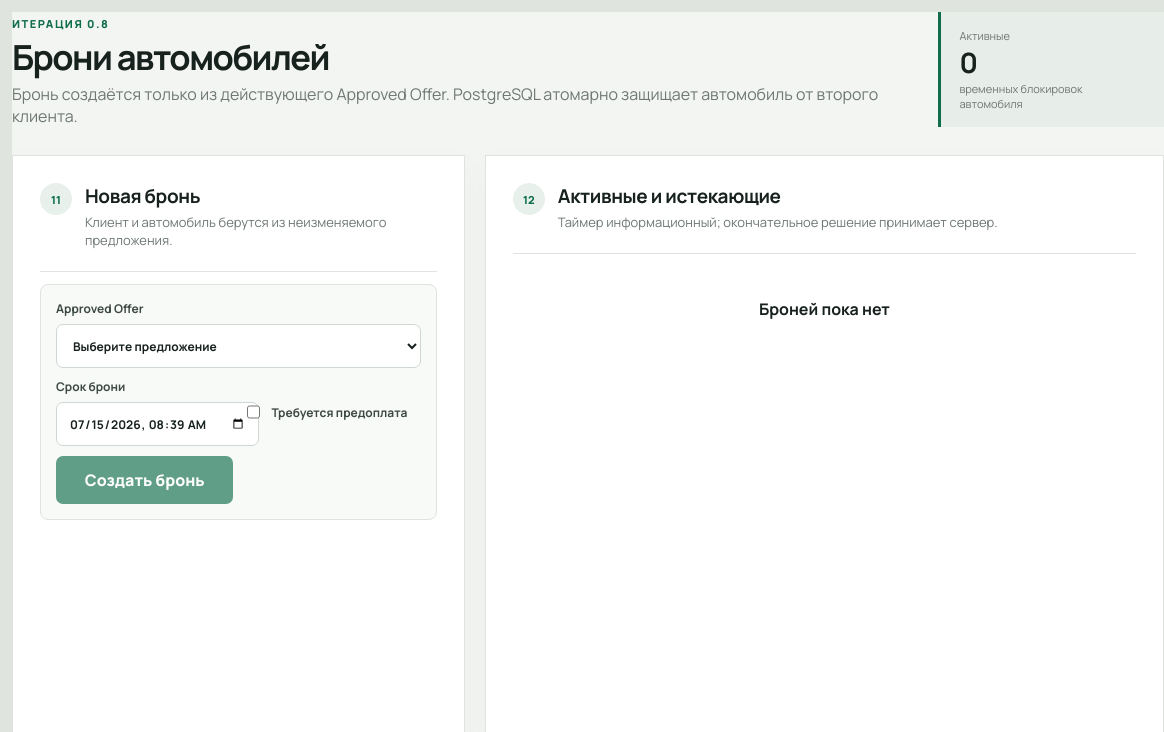
Test: ReservationsWorkspace › creates a reservation only from an approved offer and shows its countdown
Select "Ирина Клиент · Volkswagen Passat · 1 500 000,00 ₽" in the dropdown named "Approved Offer для брони": (238, 346) 56,324 -> 421,368
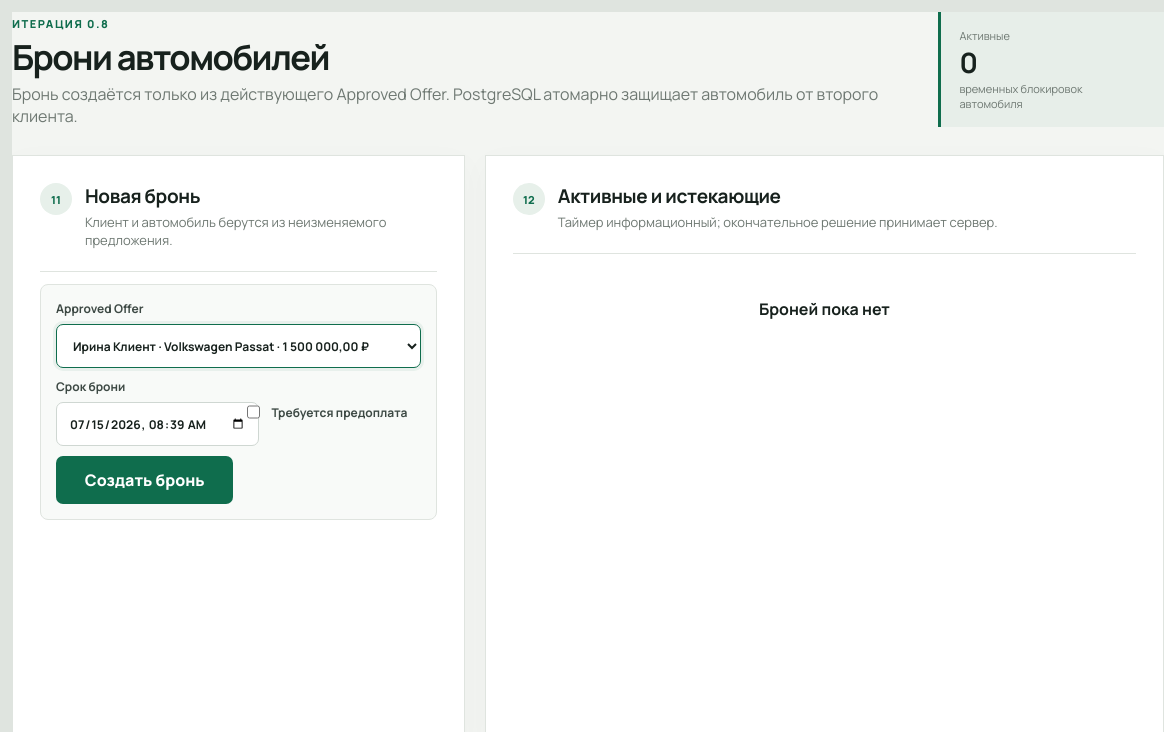
Click the button "Создать бронь": (145, 480) 56,456 -> 233,504
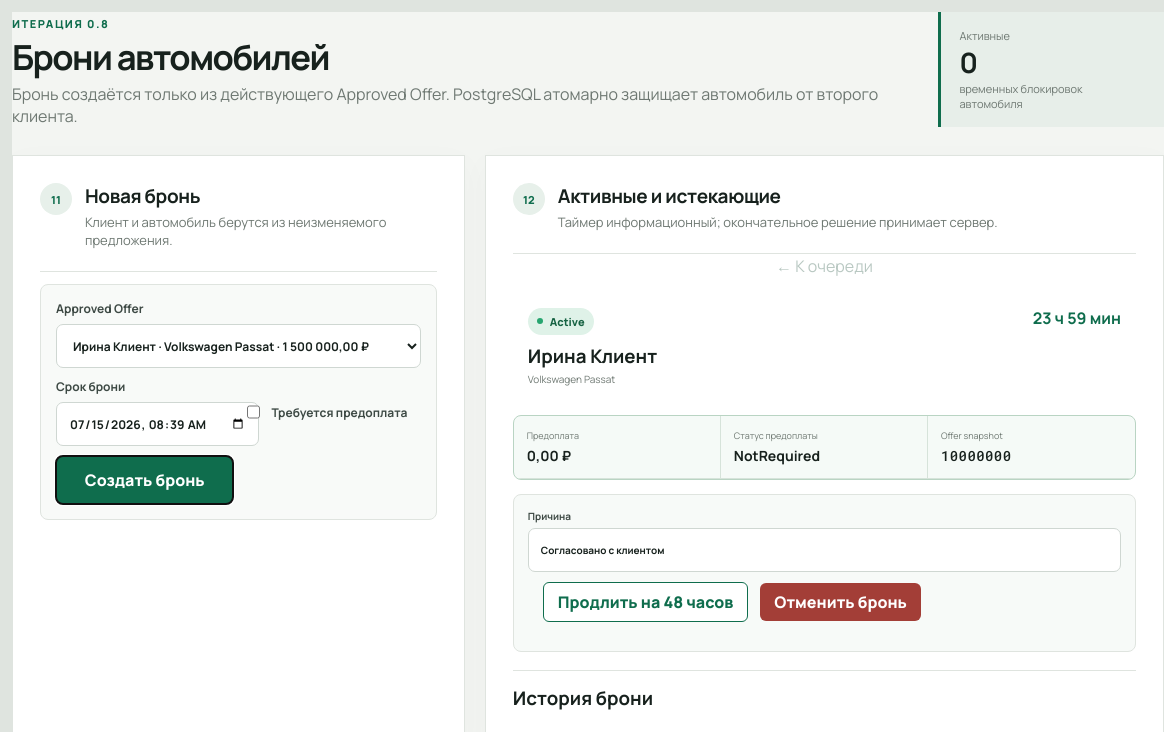
Result: the heading "Ирина Клиент" is shown at 528,342 -> 657,368
Result: the text "23 ч 59 мин" is shown at 1033,307 -> 1121,329
